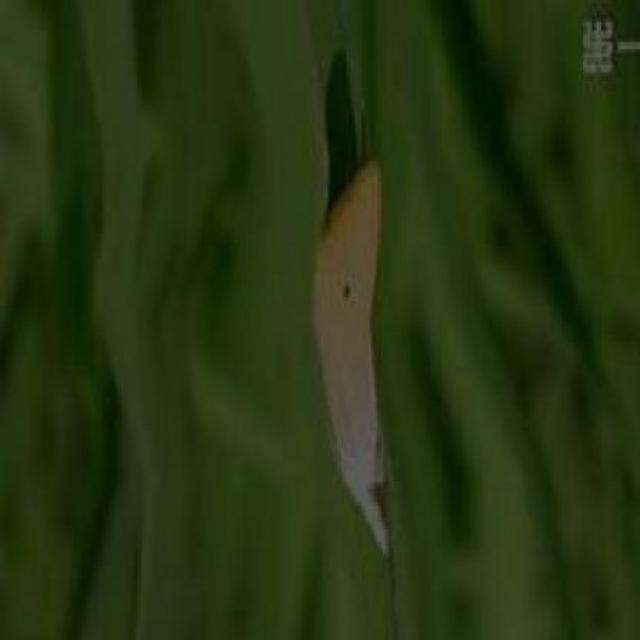stem-borer: (306, 154, 394, 560)
